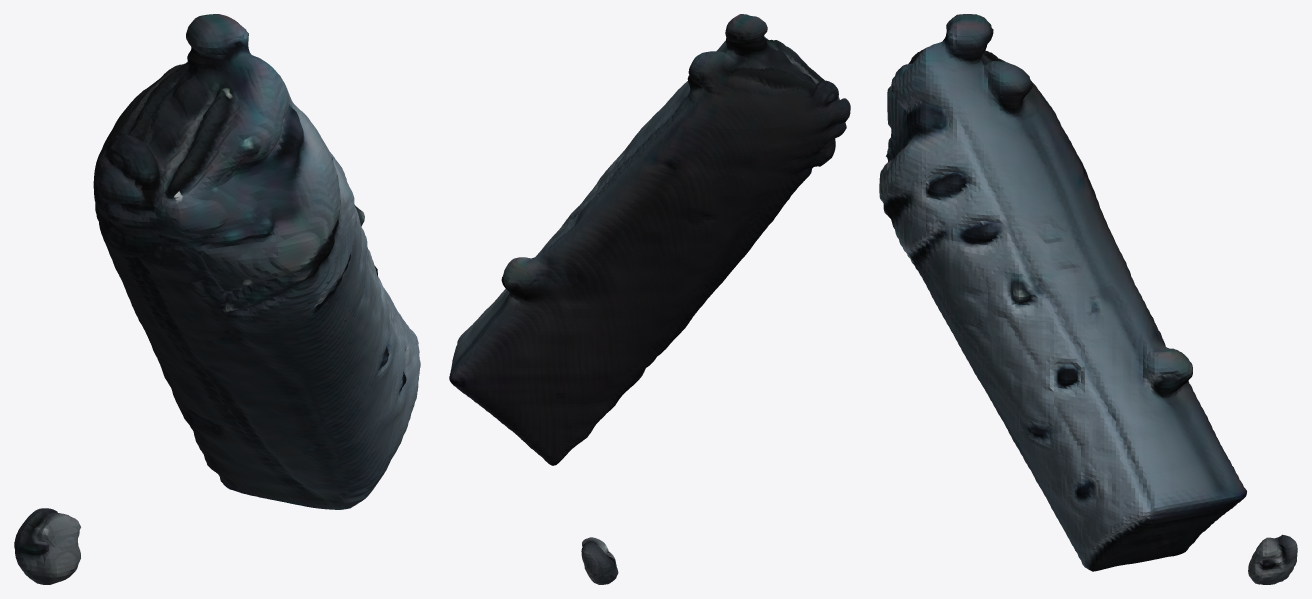
The picture shows the model from 3 angles, left to right: view 1: azimuth 30°, elevation 25°; view 2: azimuth 150°, elevation 25°; view 3: azimuth 270°, elevation 25°; orthographic projection. The views are drawn at different scales.
Bounding box in the file's own units: 0.7152 × 1.08 × 0.7361.
